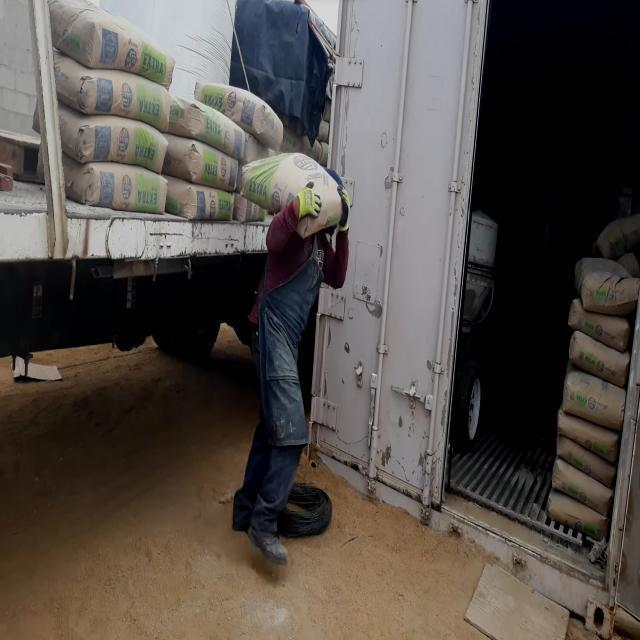gunny_bag: (48, 0, 174, 87), (53, 47, 170, 131), (240, 151, 342, 237), (58, 100, 168, 172), (62, 151, 167, 213), (195, 81, 282, 149), (168, 95, 245, 158), (161, 132, 238, 191), (564, 359, 627, 431), (553, 456, 615, 516), (576, 257, 640, 315), (569, 297, 635, 351), (570, 330, 632, 387), (559, 407, 622, 463), (548, 488, 612, 541), (558, 434, 618, 487), (165, 175, 234, 220), (591, 213, 640, 259)
